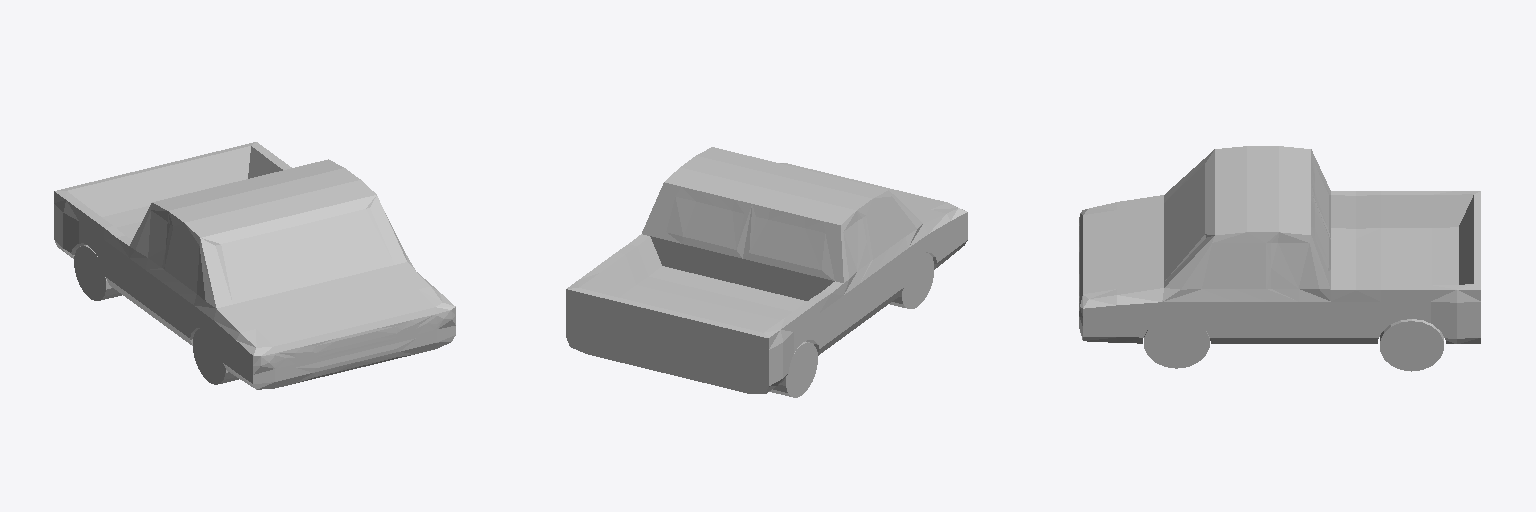
File: car1.obj
The picture shows the model from 3 angles: view 1: azimuth 30°, elevation 25°; view 2: azimuth 150°, elevation 25°; view 3: azimuth 270°, elevation 25°; orthographic projection.
Parts seen in each view (by area): view 1: group4 group3 pCube3, group4 group3 pasted__pCylinder2, pasted__pCylinder1 group4 group3; view 2: group4 group3 pCube3, group4 group3 pasted__pCylinder2, pasted__pCylinder1 group4 group3; view 3: group4 group3 pCube3, group4 group3 pasted__pCylinder2, pasted__pCylinder1 group4 group3.
Part boxes in pixels (x1,y1,x2,y2): group4 group3 pCube3: (54, 142, 455, 389); group4 group3 pasted__pCylinder2: (74, 245, 121, 300); pasted__pCylinder1 group4 group3: (193, 328, 238, 384); group4 group3 pCube3: (566, 147, 967, 393); group4 group3 pasted__pCylinder2: (769, 341, 817, 397); pasted__pCylinder1 group4 group3: (890, 253, 933, 308); group4 group3 pCube3: (1079, 146, 1480, 343); group4 group3 pasted__pCylinder2: (1380, 319, 1443, 371); pasted__pCylinder1 group4 group3: (1144, 317, 1209, 368).
Size of the model in its own units: 3.62 by 2.22 by 6.07.